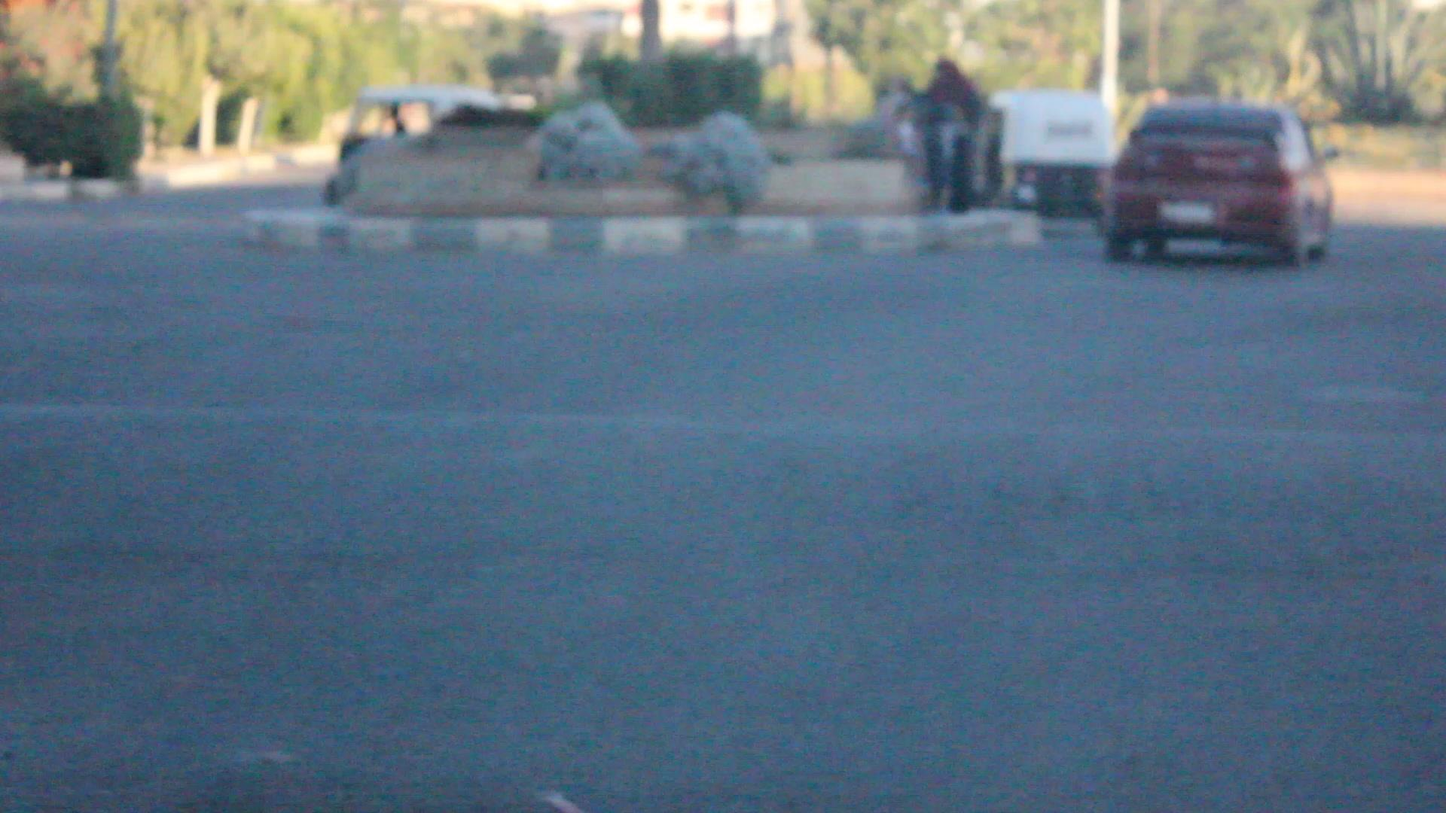Bump: (11, 399, 1446, 546)
